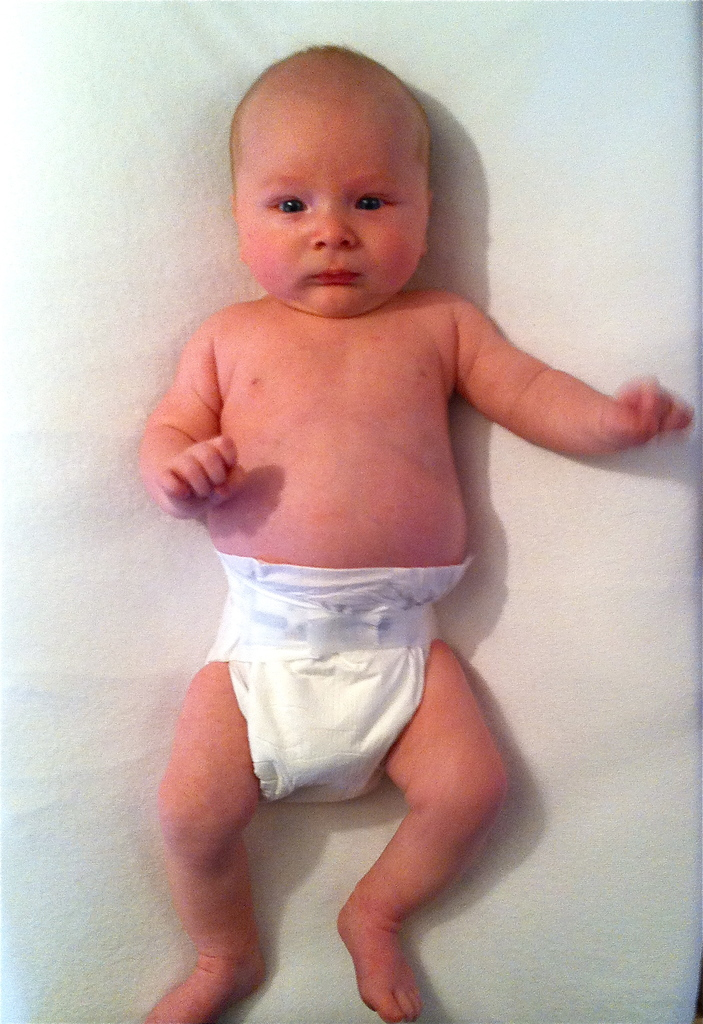face: (216, 35, 458, 322)
